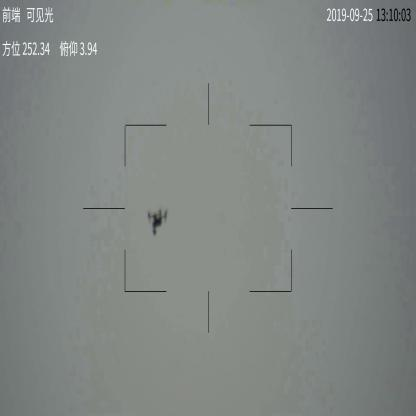uav: (147, 206, 171, 237)
